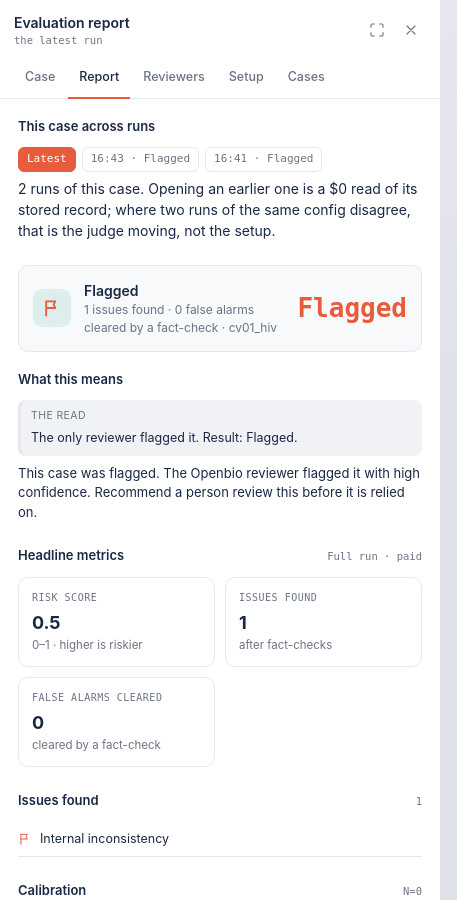
ReportTab — RUN-SCOPED-REPORT-1: a past run is openable › Latest returns to the newest grade without re-fetching a run
Expected: the element with test id "run-picker" is shown, [18,116,422,240]
Step 1. Click the button with aria-label "run run-older" → (264, 159), box [205,147,322,172]
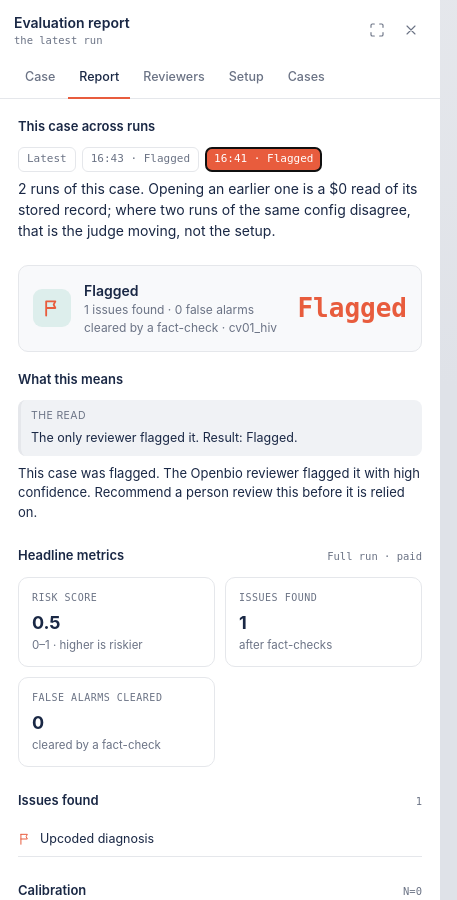
Result: the text "Upcoded diagnosis" is shown at [40,830,154,848]
Step 2. Click the button with aria-label "latest run" → (47, 159), box [18,147,76,172]
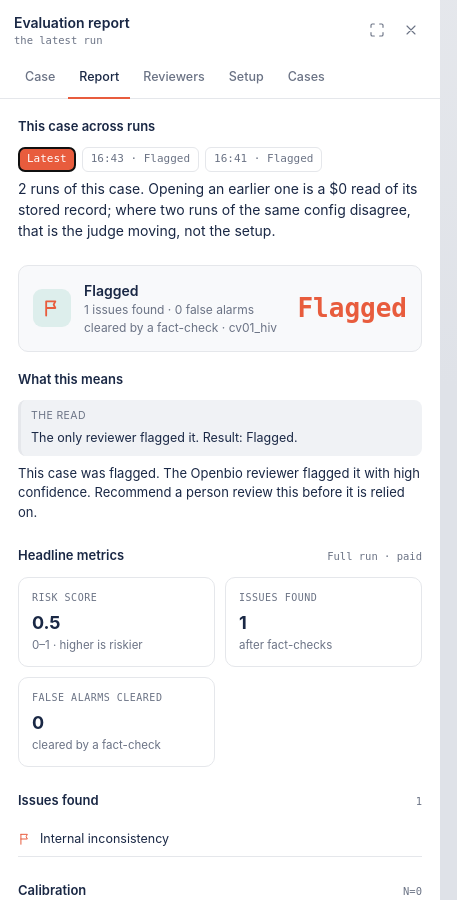
Result: the text "Internal inconsistency" is shown at [40,830,169,848]
